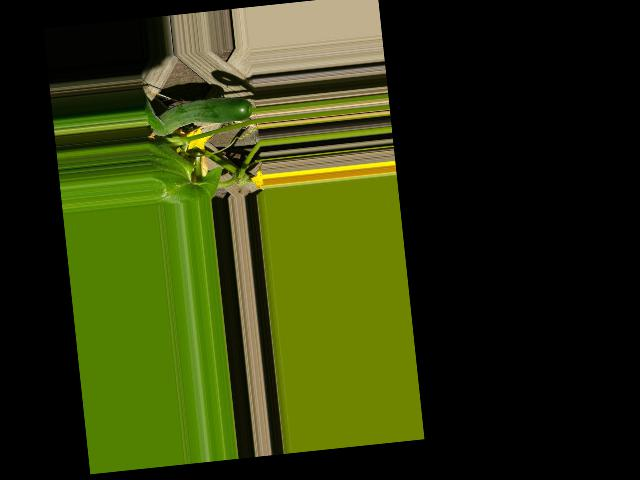cucumber: (144, 93, 252, 137)
